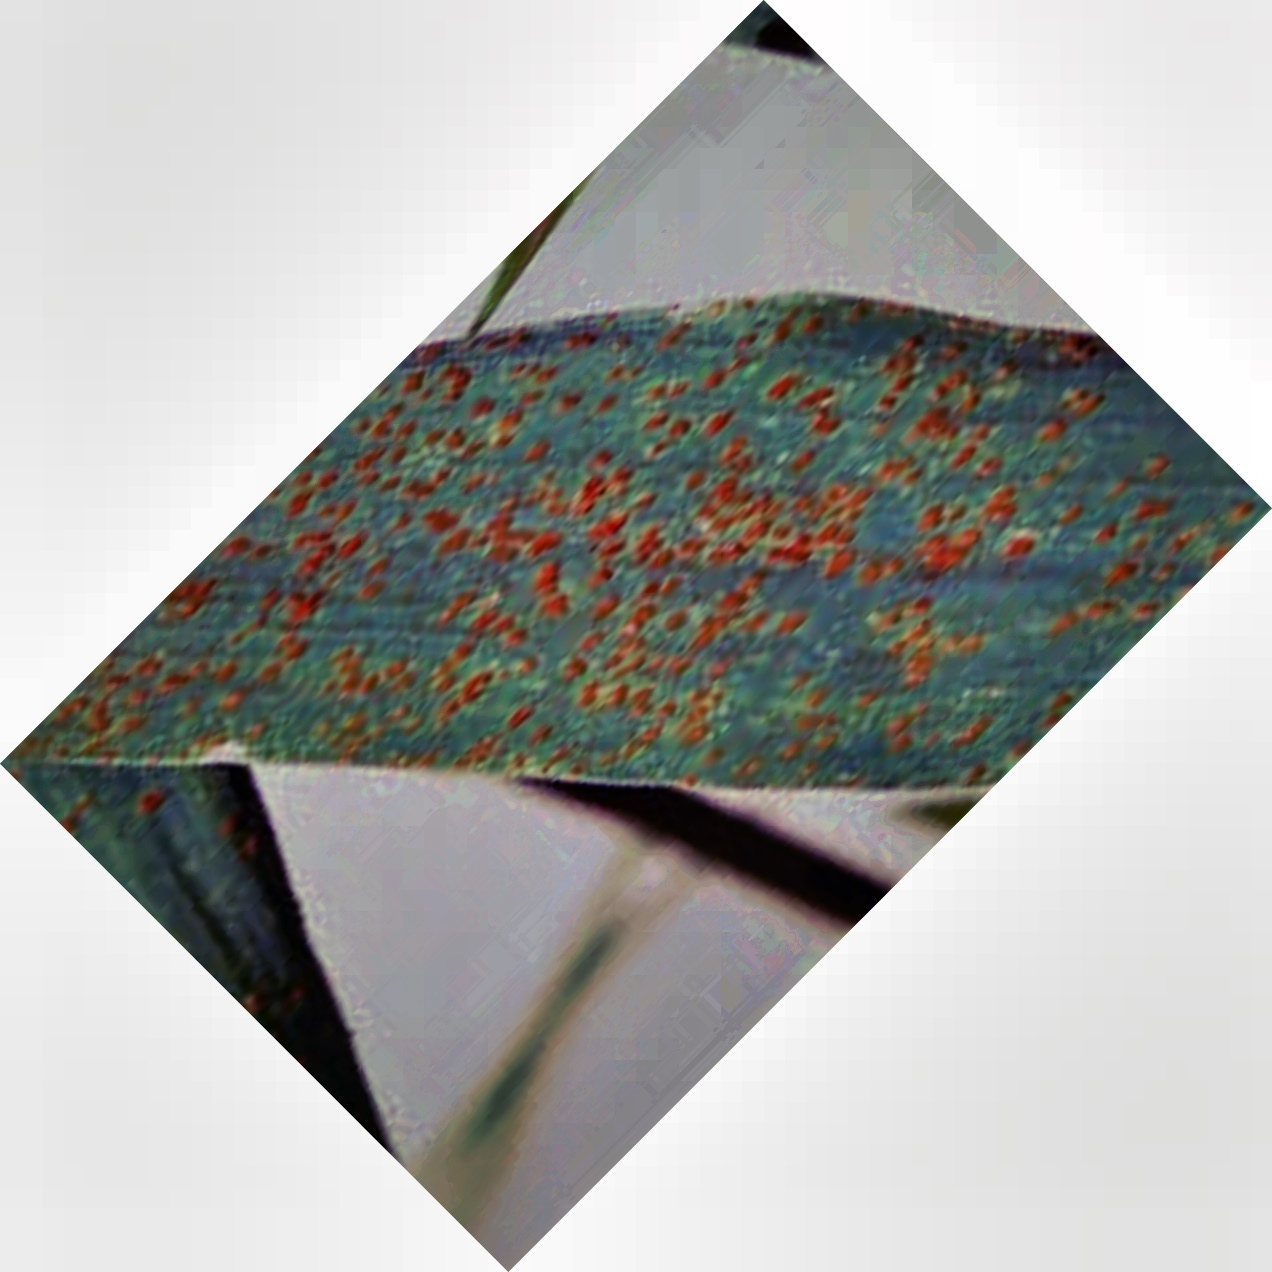Leaf Rust: (123, 298, 1176, 752)
